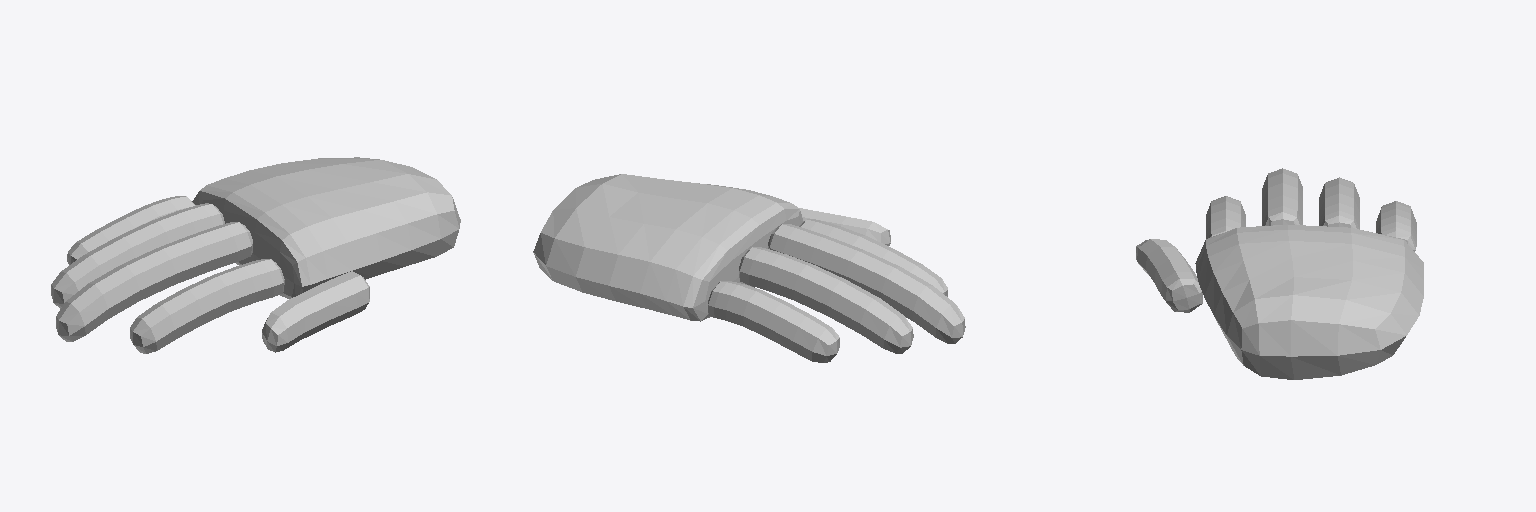
The model's file is rightHand.obj.
The picture shows the model from 3 angles: view 1: azimuth 30°, elevation 25°; view 2: azimuth 150°, elevation 25°; view 3: azimuth 270°, elevation 25°; orthographic projection.
Visible parts, largest first — view 1: Cube.007_Cube.010; view 2: Cube.007_Cube.010; view 3: Cube.007_Cube.010.
Boxes of the visible parts, x1=… form: Cube.007_Cube.010: x1=51, y1=157, x2=460, y2=353; Cube.007_Cube.010: x1=533, y1=174, x2=965, y2=362; Cube.007_Cube.010: x1=1136, y1=168, x2=1423, y2=379.
Size of the model in its own units: 0.4277 by 0.0885 by 0.2724.